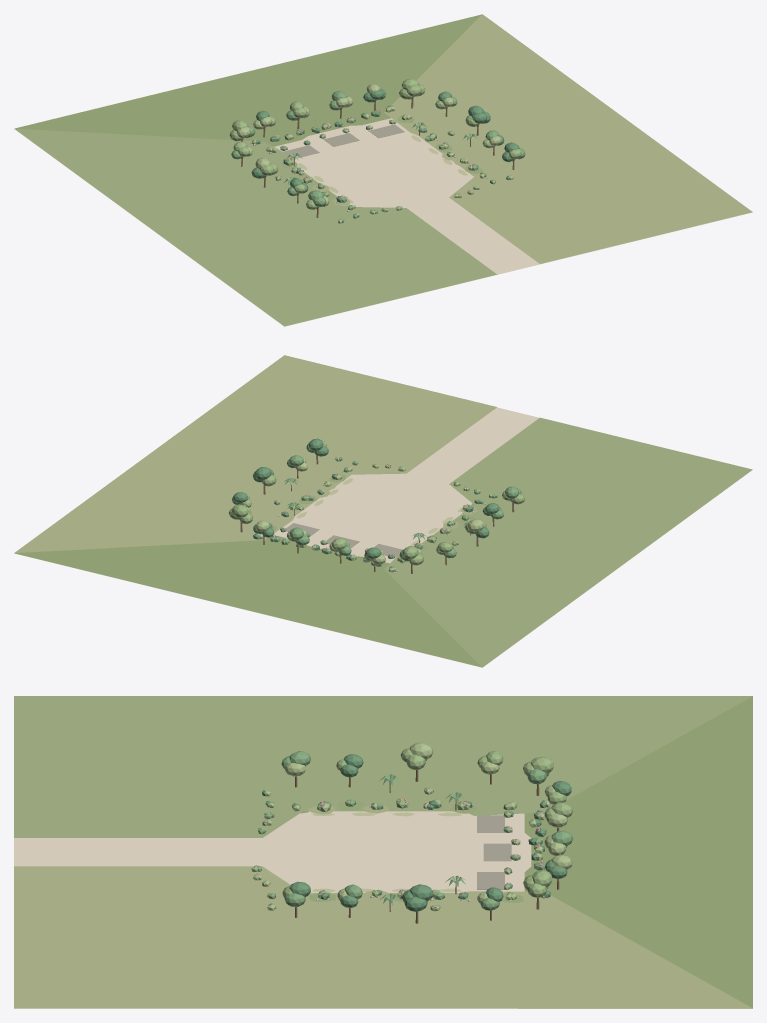
The model's file is PoskoLandscape.fbx.
The picture shows the model from 3 angles, top to bottom: view 1: azimuth 30°, elevation 25°; view 2: azimuth 150°, elevation 25°; view 3: azimuth 270°, elevation 25°; orthographic projection. The views are drawn at different scales.
Parts seen in each view (by area): view 1: Posko_Landscape_Grass_1, Posko_Landscape_Grass_2, Posko_Landscape_Grass_0, Posko_Landscape_Packed_Earth, Posko_Landscape_Leaf_2, Posko_Landscape_Leaf_0, Posko_Landscape_Leaf_3, Posko_Landscape_Leaf_1, Posko_Landscape_Foundation; view 2: Posko_Landscape_Grass_1, Posko_Landscape_Grass_2, Posko_Landscape_Grass_0, Posko_Landscape_Packed_Earth, Posko_Landscape_Leaf_2, Posko_Landscape_Leaf_0, Posko_Landscape_Leaf_1, Posko_Landscape_Leaf_3, Posko_Landscape_Foundation; view 3: Posko_Landscape_Grass_2, Posko_Landscape_Grass_1, Posko_Landscape_Grass_0, Posko_Landscape_Packed_Earth, Posko_Landscape_Leaf_0, Posko_Landscape_Leaf_2, Posko_Landscape_Leaf_3, Posko_Landscape_Leaf_1, Posko_Landscape_Foundation, Posko_Landscape_Grass_3, Posko_Landscape_Garden_Soil.
Boxes of the visible parts, bbox=[...] form: Posko_Landscape_Grass_1: bbox=[14, 128, 496, 326]; Posko_Landscape_Grass_2: bbox=[312, 14, 752, 263]; Posko_Landscape_Grass_0: bbox=[15, 14, 481, 146]; Posko_Landscape_Packed_Earth: bbox=[15, 118, 752, 326]; Posko_Landscape_Leaf_2: bbox=[229, 79, 521, 212]; Posko_Landscape_Leaf_0: bbox=[251, 88, 519, 222]; Posko_Landscape_Leaf_3: bbox=[237, 83, 513, 223]; Posko_Landscape_Leaf_1: bbox=[231, 91, 525, 218]; Posko_Landscape_Foundation: bbox=[283, 124, 404, 158]; Posko_Landscape_Grass_1: bbox=[303, 417, 752, 667]; Posko_Landscape_Grass_2: bbox=[14, 355, 496, 552]; Posko_Landscape_Grass_0: bbox=[14, 503, 481, 667]; Posko_Landscape_Packed_Earth: bbox=[14, 407, 752, 667]; Posko_Landscape_Leaf_2: bbox=[229, 440, 524, 571]; Posko_Landscape_Leaf_0: bbox=[233, 438, 499, 567]; Posko_Landscape_Leaf_1: bbox=[232, 442, 521, 561]; Posko_Landscape_Leaf_3: bbox=[245, 456, 510, 572]; Posko_Landscape_Foundation: bbox=[286, 523, 402, 557]; Posko_Landscape_Grass_2: bbox=[14, 805, 752, 1008]; Posko_Landscape_Grass_1: bbox=[14, 696, 752, 837]; Posko_Landscape_Grass_0: bbox=[300, 696, 752, 1008]; Posko_Landscape_Packed_Earth: bbox=[14, 811, 752, 1008]; Posko_Landscape_Leaf_0: bbox=[262, 754, 571, 911]; Posko_Landscape_Leaf_2: bbox=[251, 748, 572, 911]; Posko_Landscape_Leaf_3: bbox=[254, 742, 572, 910]; Posko_Landscape_Leaf_1: bbox=[257, 751, 572, 910]; Posko_Landscape_Foundation: bbox=[477, 815, 511, 889]; Posko_Landscape_Grass_3: bbox=[309, 801, 523, 902]; Posko_Landscape_Garden_Soil: bbox=[312, 812, 461, 892].
Size of the model in its own units: 11000 by 646 by 11000.
